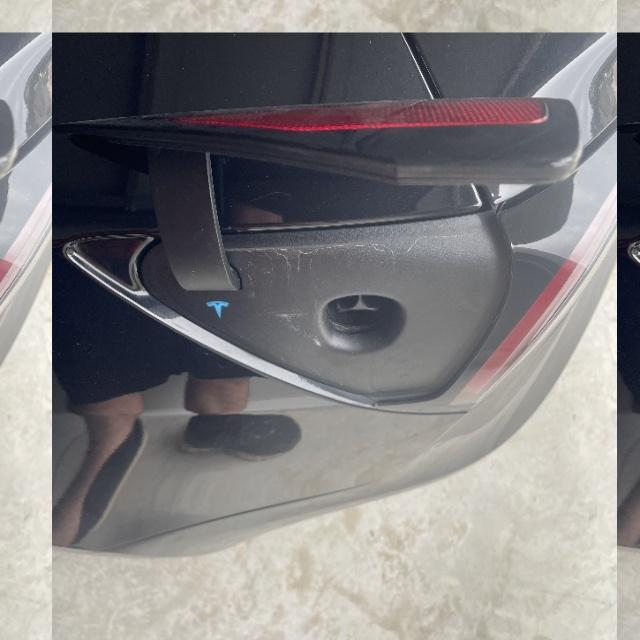Tesla Model-S-: (306, 285, 414, 370)
